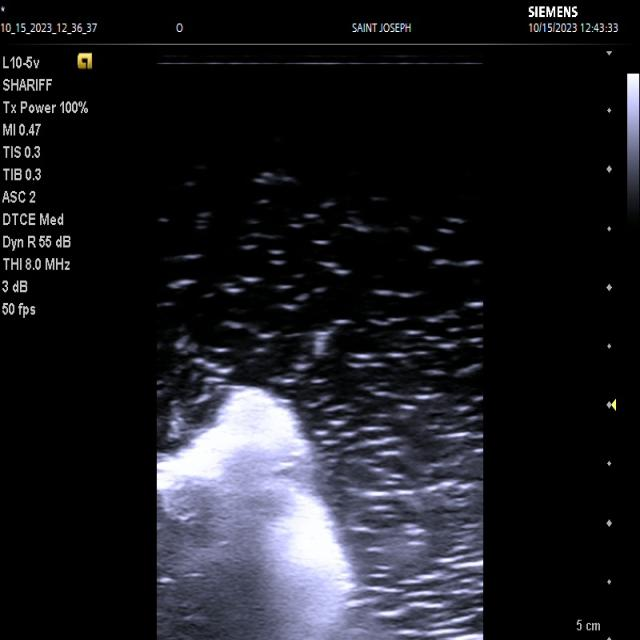tissue: (157, 380, 359, 640)
